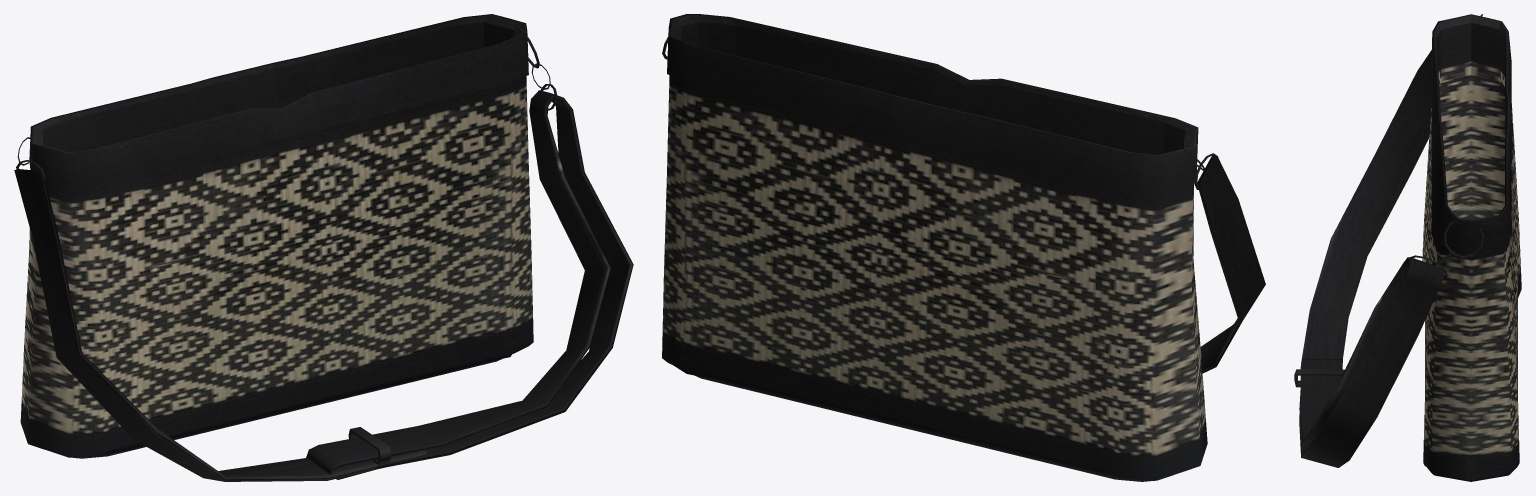
The model's file is sling_bag1.glb.
3 views of the same model, side by side, from view 1: azimuth 30°, elevation 25°; view 2: azimuth 150°, elevation 25°; view 3: azimuth 270°, elevation 25° (orthographic). The views are drawn at different scales.
Visible parts, largest first — view 1: pCylinder8, pPlane4, pPlane1; view 2: pCylinder8, pPlane1; view 3: pCylinder8, pPlane4, pPlane1, pTorus4.
Part boxes in pixels (x1,y1,x2,y2): pCylinder8: (20, 14, 533, 458); pPlane4: (306, 90, 633, 479); pPlane1: (14, 169, 426, 481); pCylinder8: (662, 14, 1207, 481); pPlane1: (1197, 155, 1265, 373); pCylinder8: (1422, 14, 1521, 481); pPlane4: (1294, 257, 1444, 467); pPlane1: (1300, 50, 1431, 380); pTorus4: (1443, 218, 1484, 258).
Size of the model in its own units: 74.31 by 42.05 by 31.61.
1 material, 1 textured.
